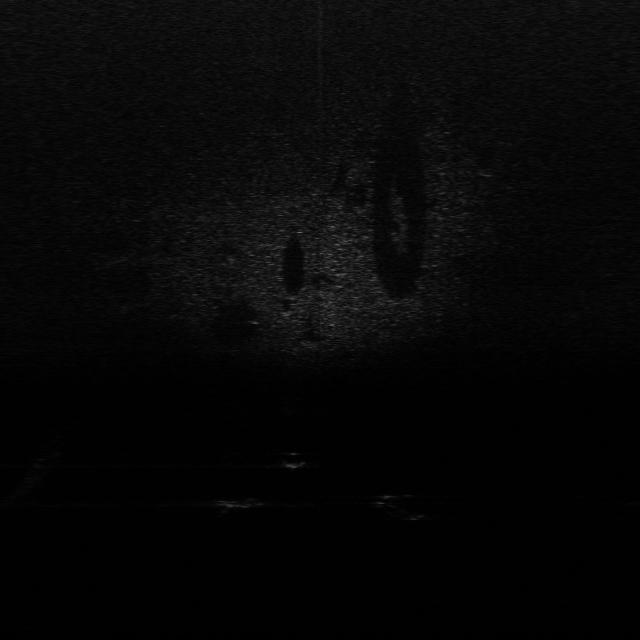ball: (278, 450, 311, 470)
square cage: (214, 489, 274, 518)
tyre: (373, 490, 436, 525)
